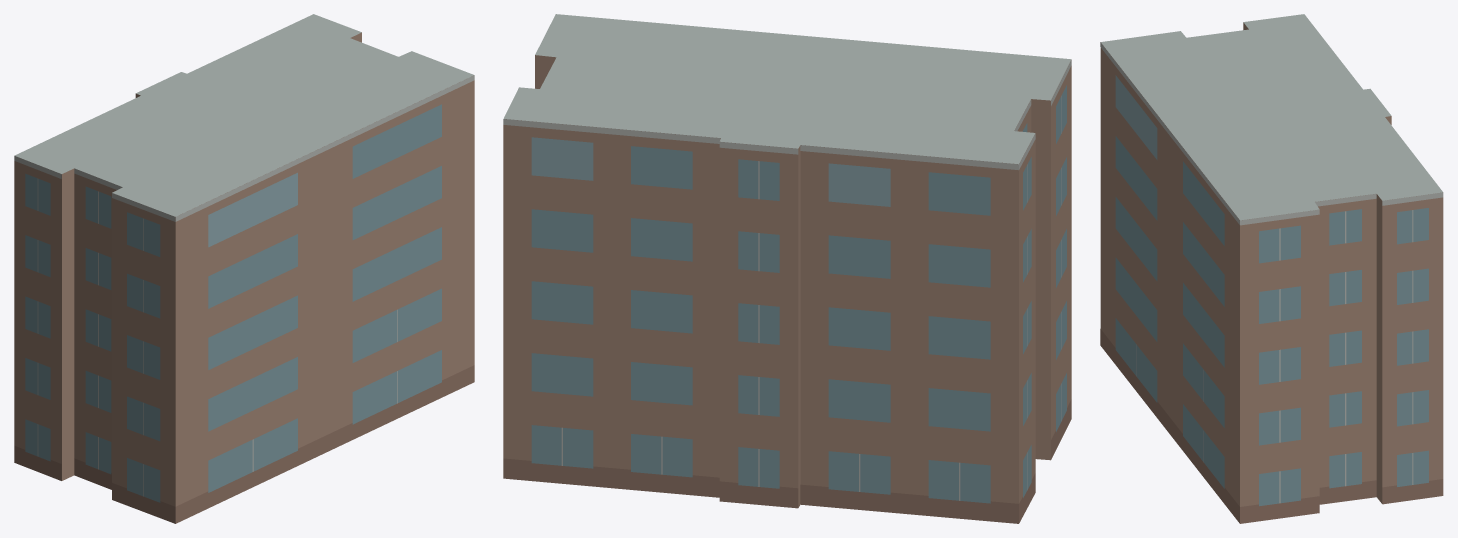
Rendered from survey-upis-32621362.glb.
3 renders of one model, left to right at view 1: azimuth 30°, elevation 25°; view 2: azimuth 150°, elevation 25°; view 3: azimuth 270°, elevation 25°, orthographic. The views are drawn at different scales.
Visible parts, largest first — view 1: survey-upis-32621362.tmp; view 2: survey-upis-32621362.tmp; view 3: survey-upis-32621362.tmp.
Boxes of the visible parts, x1=… form: survey-upis-32621362.tmp: x1=14, y1=14, x2=474, y2=523; survey-upis-32621362.tmp: x1=503, y1=14, x2=1071, y2=523; survey-upis-32621362.tmp: x1=1100, y1=14, x2=1443, y2=523.
Bounding box in the file's own units: 21.37 × 14.65 × 15.01.
